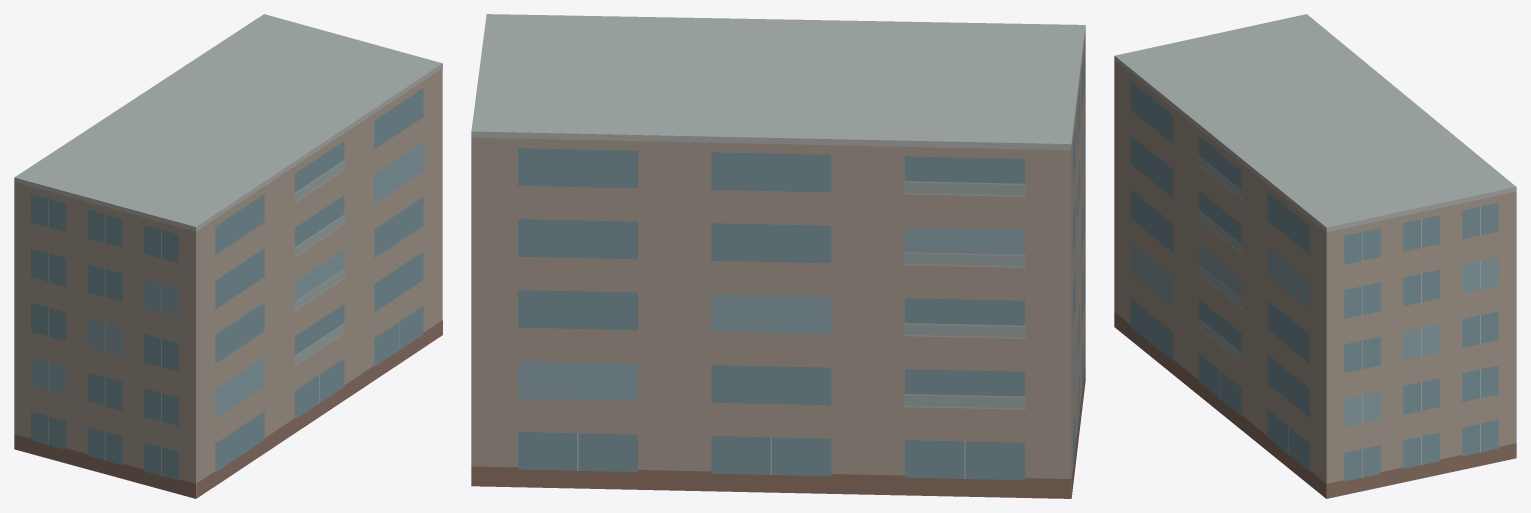
File: survey-upis-32830166.glb
3 renders of one model, left to right at view 1: azimuth 30°, elevation 25°; view 2: azimuth 150°, elevation 25°; view 3: azimuth 270°, elevation 25°, orthographic. The views are drawn at different scales.
Parts seen in each view (by area): view 1: survey-upis-32830166.tmp; view 2: survey-upis-32830166.tmp; view 3: survey-upis-32830166.tmp.
Boxes of the visible parts, x1,y1,x2,y2 form: survey-upis-32830166.tmp: (14, 14, 442, 498); survey-upis-32830166.tmp: (471, 14, 1085, 498); survey-upis-32830166.tmp: (1114, 14, 1516, 498).
Size of the model in its own units: 23.81 by 14.1 by 18.94.
